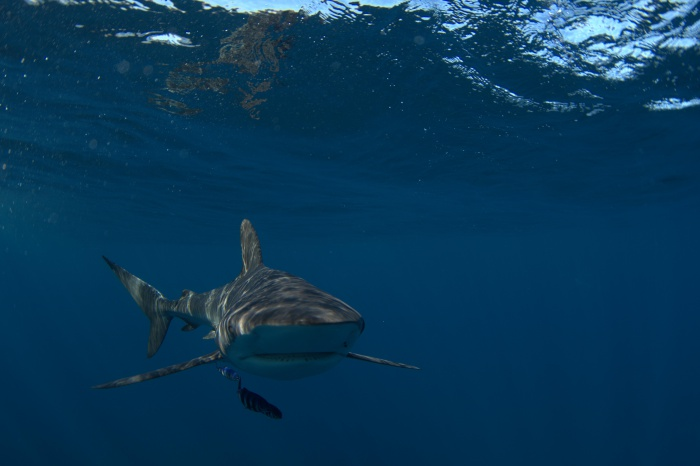Sedoso: (65, 213, 441, 401)
